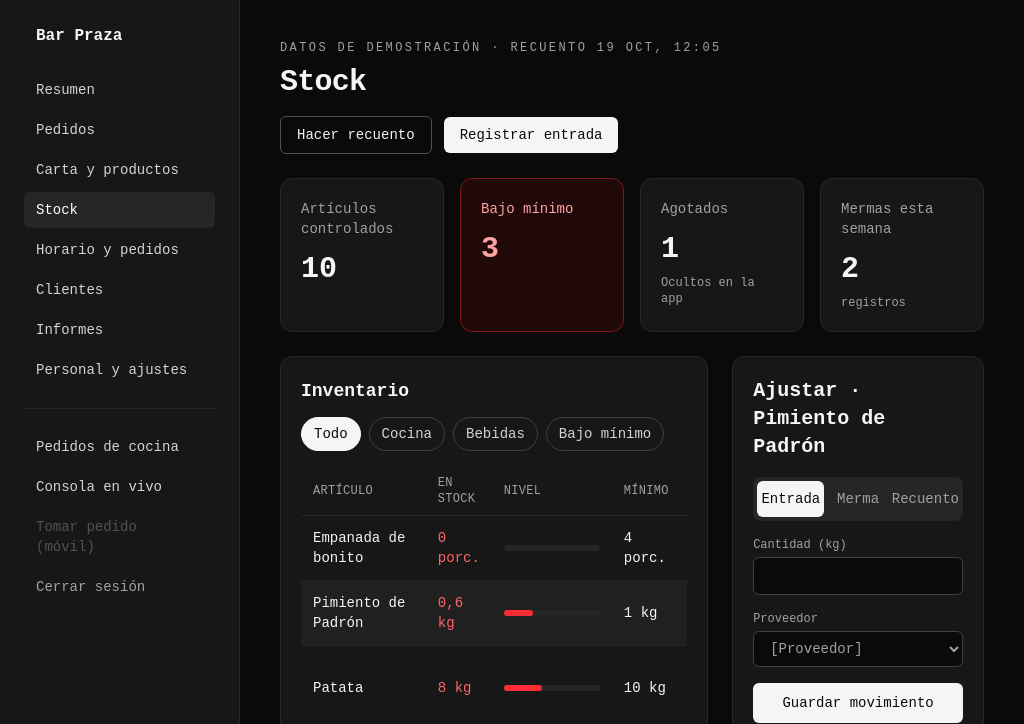
StockPage edge cases › shows an error and keeps the amount when saving fails
The width and height of the screenshot is (1024, 724).
Type "3" into the field labelled "Cantidad (kg)" at (858,576), box [753,557,963,595]
(page scrolled)
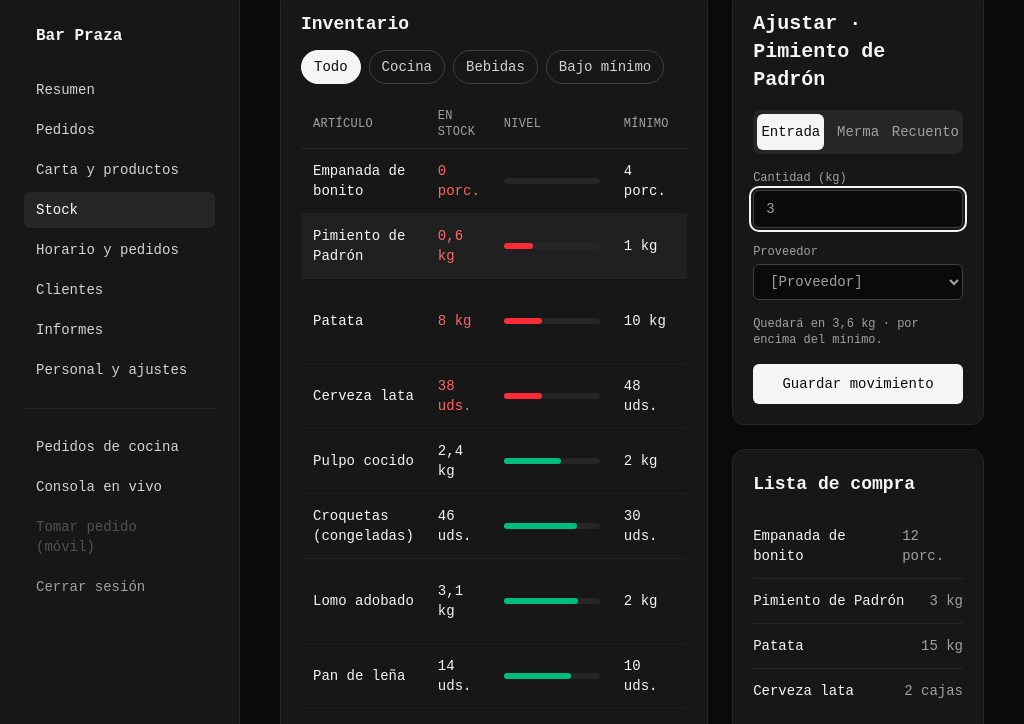
Click the button "Guardar movimiento" at (858,384), box [753,364,963,404]
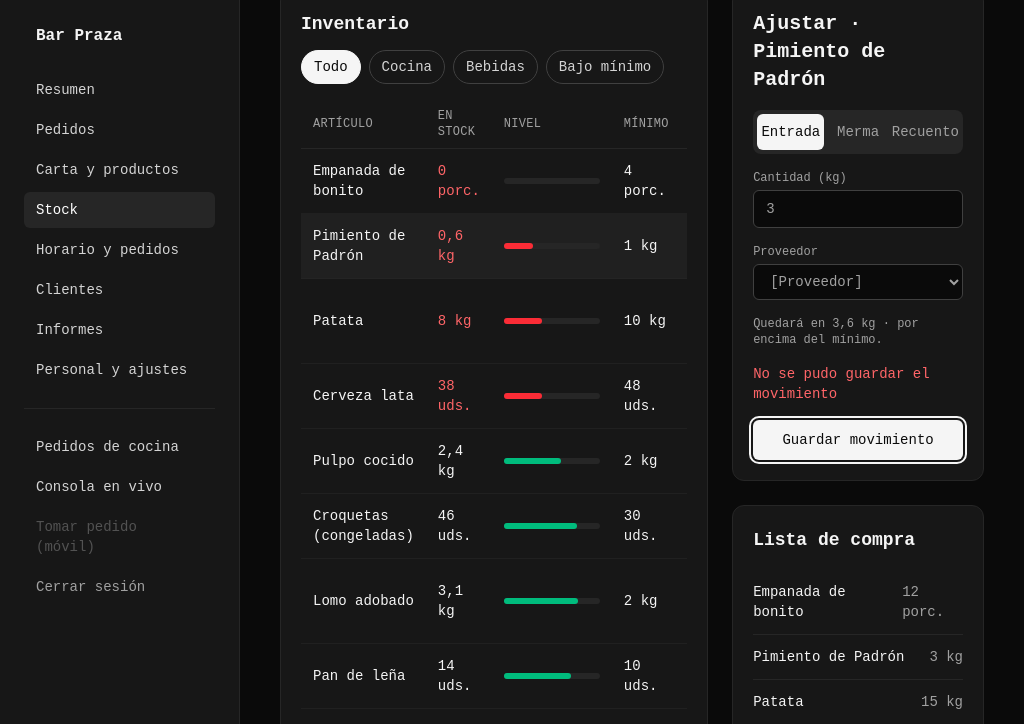
Result: the message reads "No se pudo guardar el movimiento" at [753,366,930,402]
